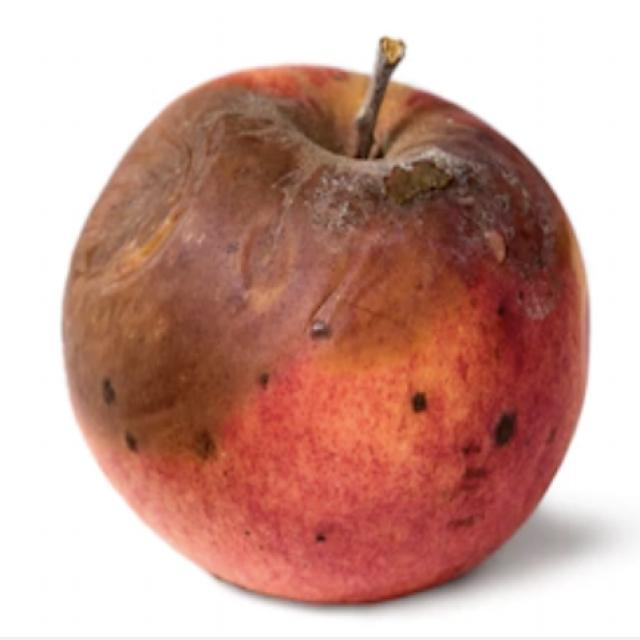Rotten: (41, 63, 592, 615)
